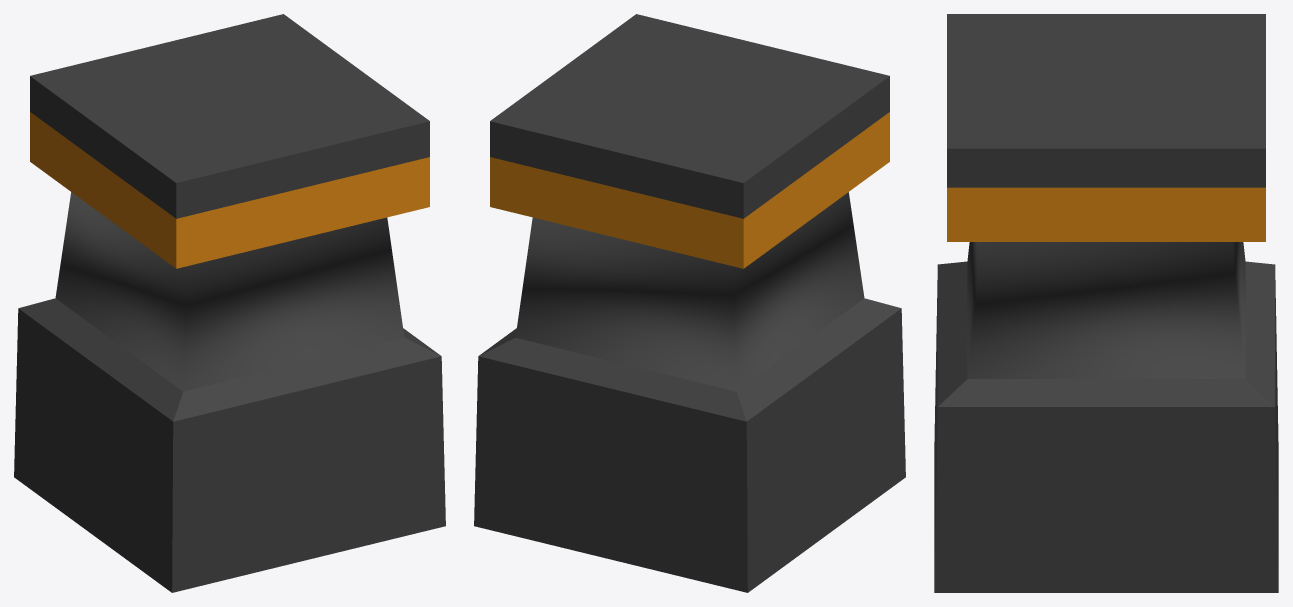
The model's file is hokuyo_utm_30lx.dae.
3 views of the same model, side by side, from view 1: azimuth 30°, elevation 25°; view 2: azimuth 150°, elevation 25°; view 3: azimuth 270°, elevation 25° (orthographic). The views are drawn at different scales.
Parts seen in each view (by area): view 1: Plane; view 2: Plane; view 3: Plane.
Boxes of the visible parts, x1,y1,x2,y2 form: Plane: [14, 14, 445, 592]; Plane: [474, 14, 905, 592]; Plane: [934, 14, 1278, 592].
Bounding box in the file's own units: 0.0618 × 0.0618 × 0.087.
